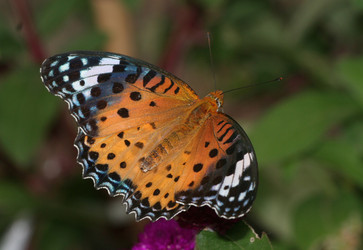Argyreus hyperbius: (34, 27, 290, 218)
butterfly: (36, 29, 292, 220)
